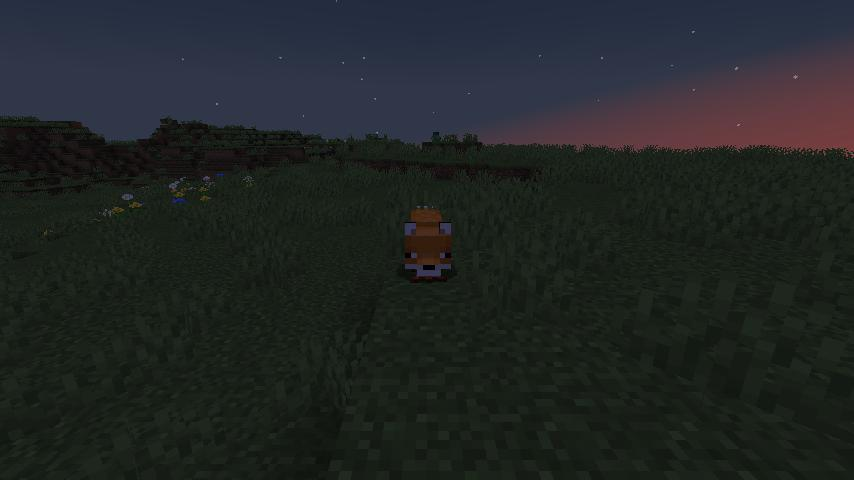fox: (395, 200, 458, 287)
zombie: (430, 130, 442, 142)
